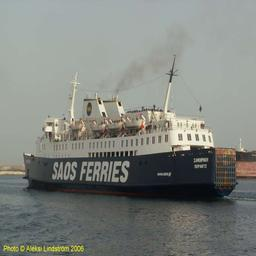Ship: (20, 93, 240, 203)
